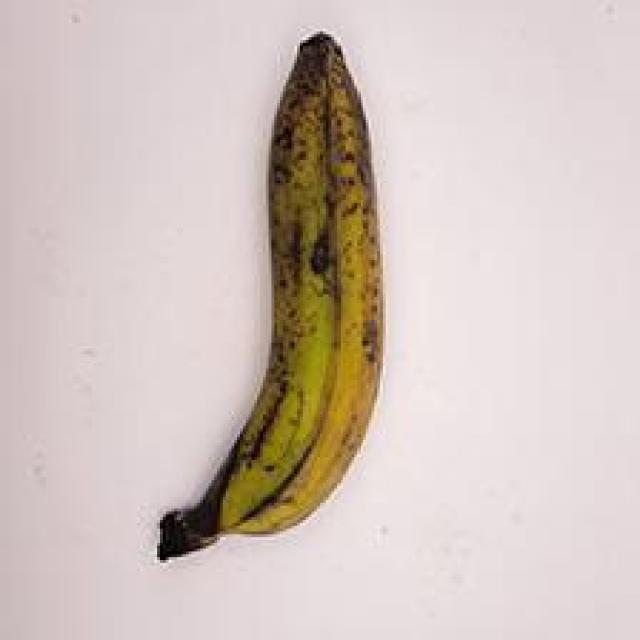Overripe: (128, 16, 434, 569)
